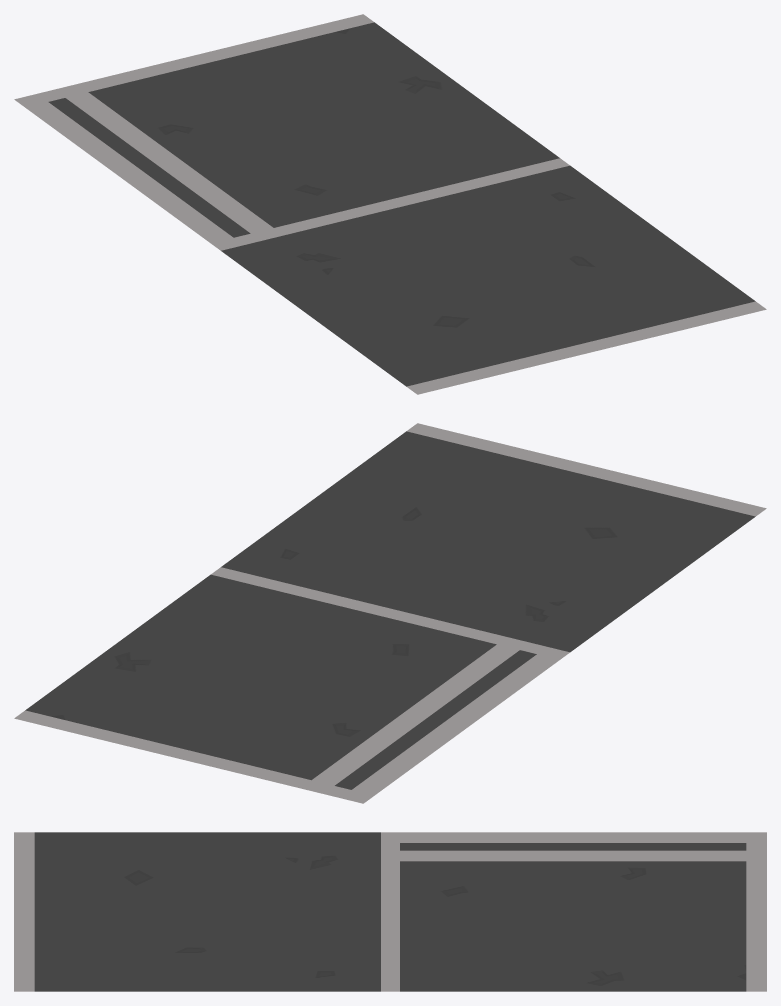
Rendered from SM_Gen_Env_Road_Intersection_01.fbx.
The picture shows the model from 3 angles, top to bottom: view 1: azimuth 30°, elevation 25°; view 2: azimuth 150°, elevation 25°; view 3: azimuth 270°, elevation 25°; orthographic projection. The views are drawn at different scales.
Parts seen in each view (by area): view 1: SM_Gen_Env_Road_Intersection_01; view 2: SM_Gen_Env_Road_Intersection_01; view 3: SM_Gen_Env_Road_Intersection_01.
Boxes of the visible parts, x1,y1,x2,y2 form: SM_Gen_Env_Road_Intersection_01: (14,14,766,394); SM_Gen_Env_Road_Intersection_01: (14,423,766,803); SM_Gen_Env_Road_Intersection_01: (14,832,766,991).
Bounding box in the file's own units: 500 × 1.36e-12 × 1000.
